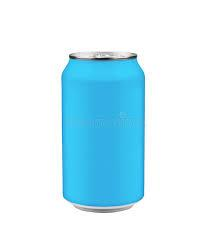Aluminum can: (52, 42, 157, 219)
